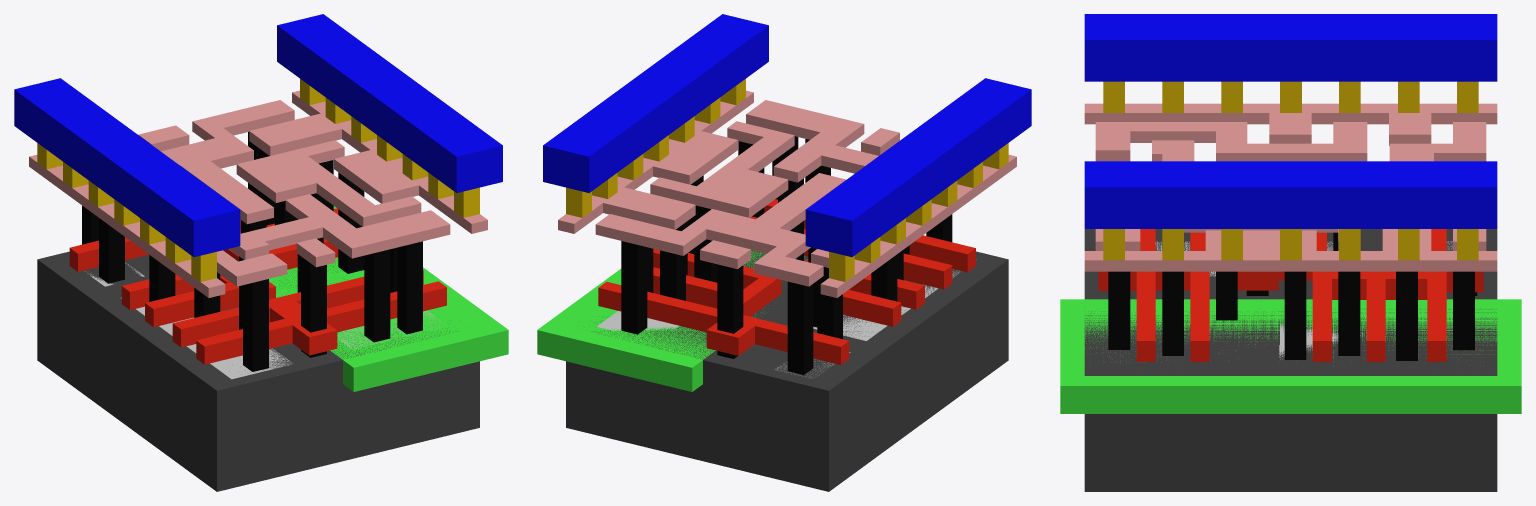
The model's file is sky130_fd_sc_hd__einvn_2.obj.
3 renders of one model, left to right at view 1: azimuth 30°, elevation 25°; view 2: azimuth 150°, elevation 25°; view 3: azimuth 270°, elevation 25°, orthographic. The views are drawn at different scales.
Parts seen in each view (by area): view 1: subs, metal1, li, licon, poly, nwell, mcon, diff; view 2: subs, li, metal1, poly, licon, nwell, mcon, diff, tap; view 3: metal1, subs, li, nwell, poly, licon, mcon.
Boxes of the visible parts, x1,y1,x2,y2 form: subs: (37, 251, 479, 491); metal1: (14, 14, 502, 257); li: (29, 90, 487, 297); licon: (82, 132, 422, 371); poly: (69, 208, 446, 364); nwell: (269, 206, 508, 391); mcon: (37, 79, 479, 281); diff: (84, 262, 291, 379); subs: (566, 250, 1008, 491); li: (558, 90, 1016, 297); metal1: (543, 14, 1031, 257); poly: (598, 199, 975, 364); licon: (621, 136, 952, 374); nwell: (537, 250, 804, 391); mcon: (566, 79, 1008, 281); diff: (775, 259, 976, 378); tap: (596, 311, 679, 330); metal1: (1084, 14, 1497, 228); subs: (1084, 229, 1497, 491); li: (1084, 103, 1497, 271); nwell: (1060, 299, 1521, 413); poly: (1098, 229, 1483, 361); licon: (1108, 232, 1477, 360); mcon: (1103, 81, 1478, 260).
Bounding box in the file's own units: 3.2 × 2.74 × 3.6.
